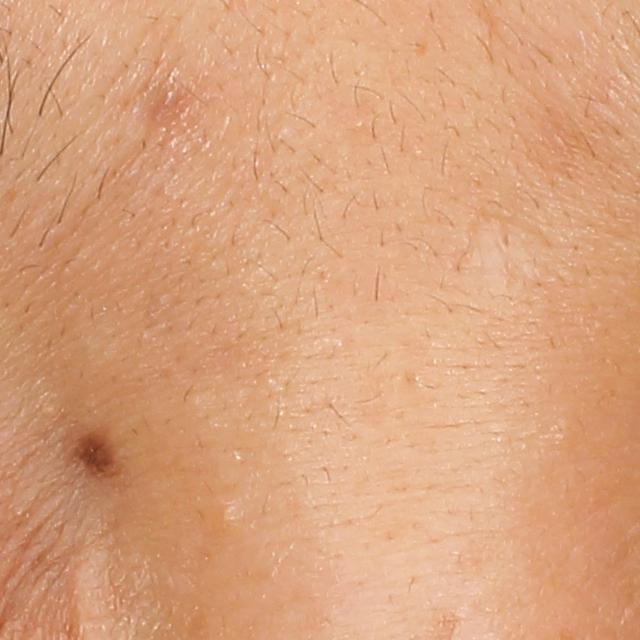melasma: (63, 426, 125, 482)
